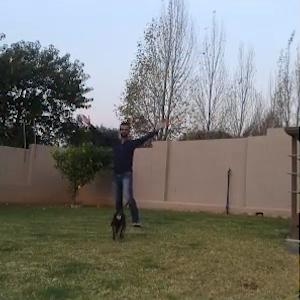takeoff: (91, 114, 180, 225)
